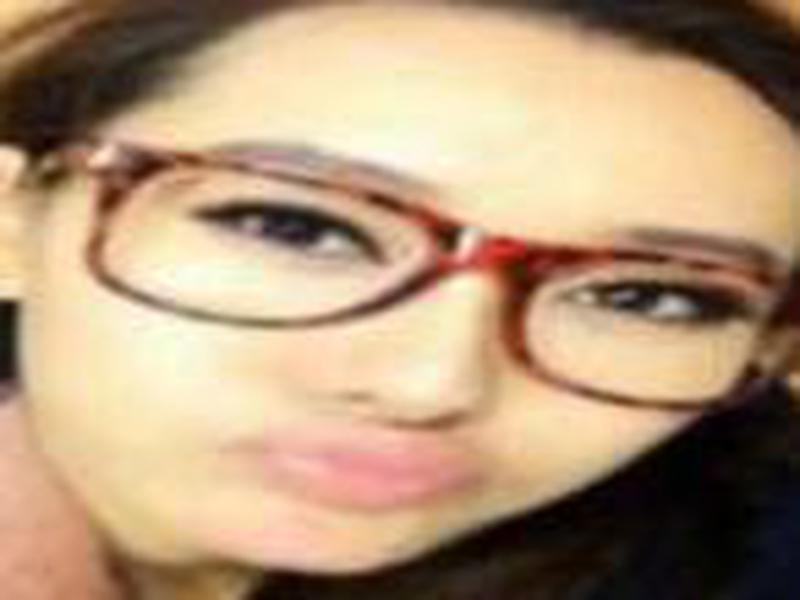without_mask: (29, 19, 789, 576)
